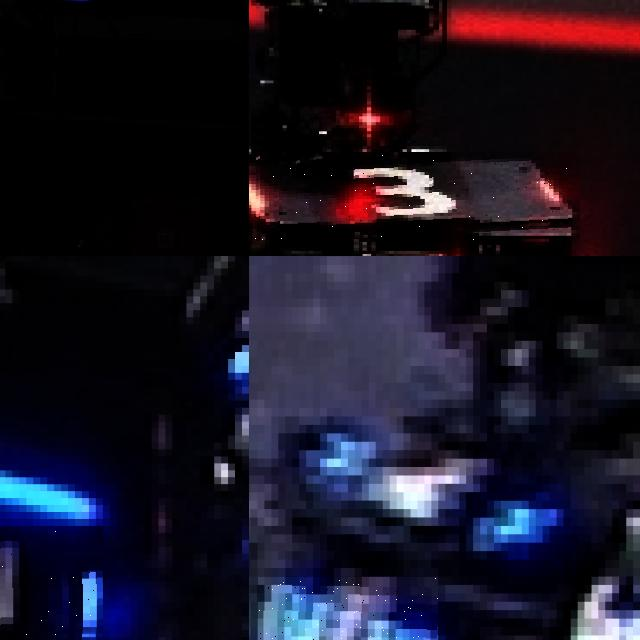B1: (0, 525, 102, 640)
B4: (257, 576, 438, 640)
R3: (249, 152, 580, 244)
